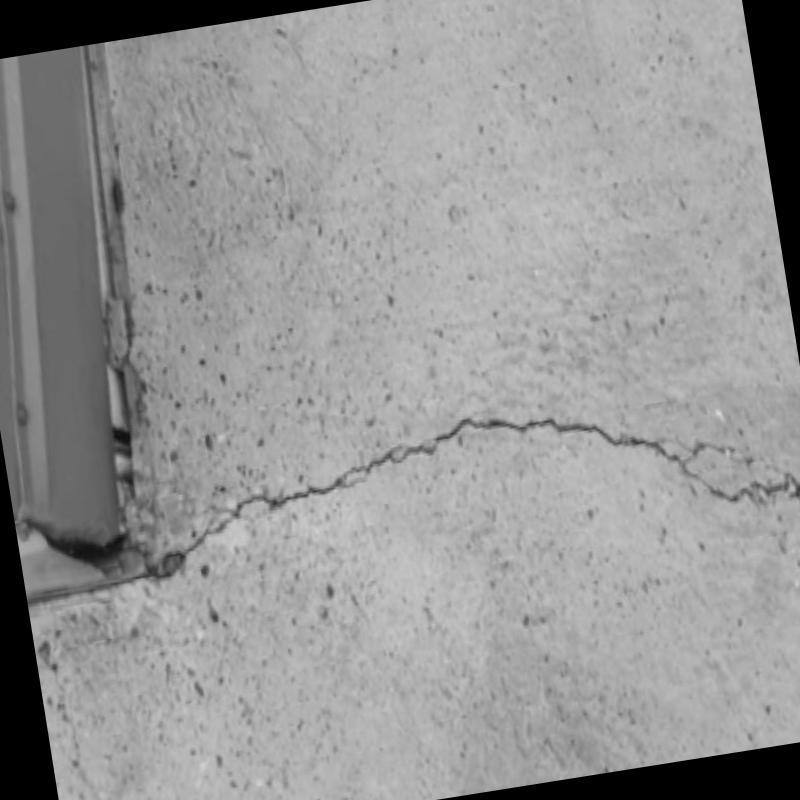pothole: (26, 417, 800, 605)
